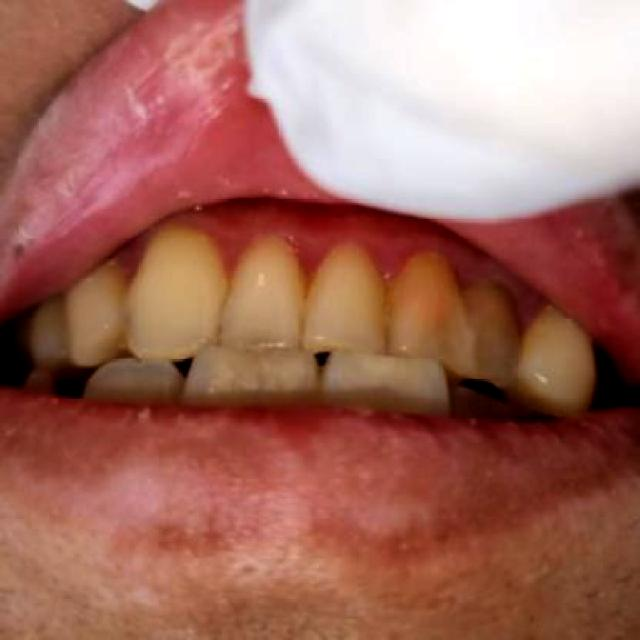Plaque: (166, 212, 542, 334), (115, 237, 150, 287)
